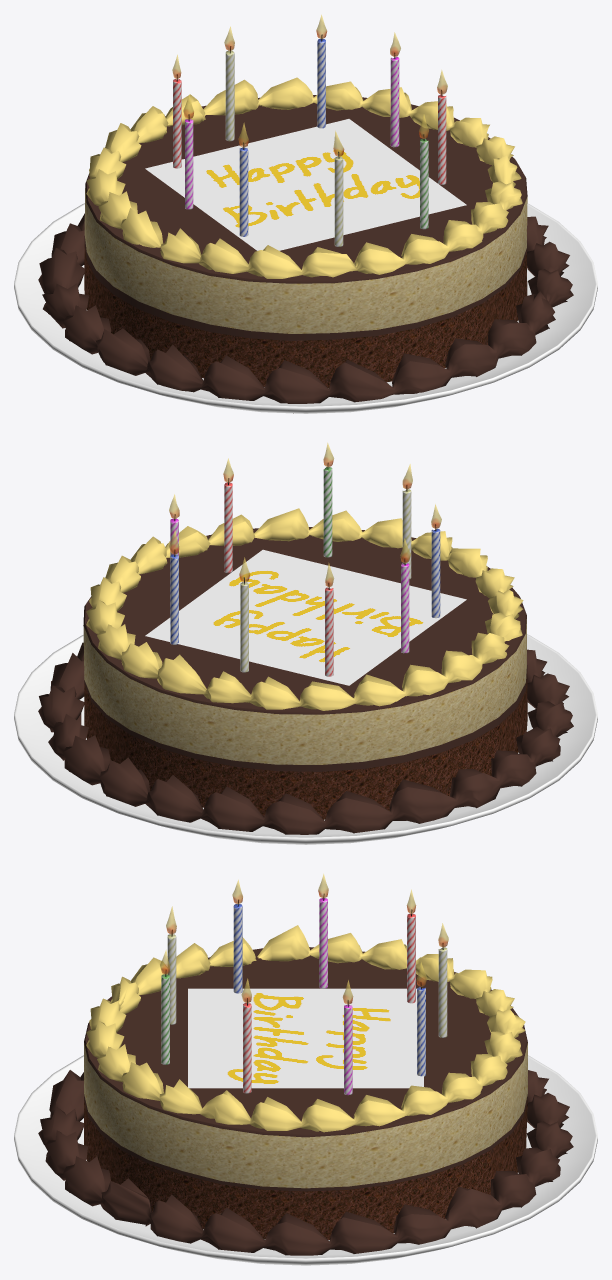
The model's file is torta.glb.
The picture shows the model from 3 angles, top to bottom: view 1: azimuth 30°, elevation 25°; view 2: azimuth 150°, elevation 25°; view 3: azimuth 270°, elevation 25°; orthographic projection.
Visible parts, largest first — view 1: torta; view 2: torta; view 3: torta.
Boxes of the visible parts, box(x1,y1,x2,y2) form: torta: box(14, 15, 597, 413); torta: box(14, 443, 597, 844); torta: box(14, 874, 597, 1265).
Bounding box in the file's own units: 24 × 10.6 × 24.
Materials: 9 (5 with a texture image).
